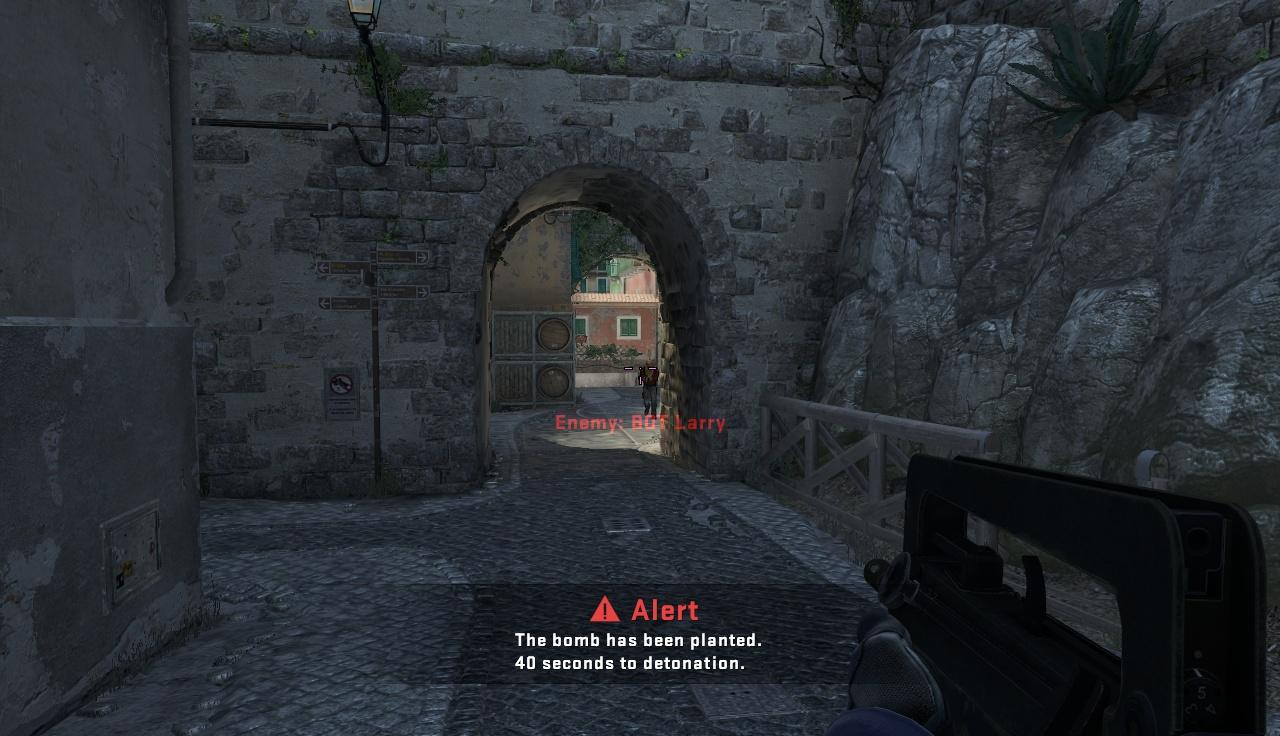rifle: (866, 446, 1280, 732)
tt: (641, 359, 657, 418)
tthead: (645, 360, 653, 367)
